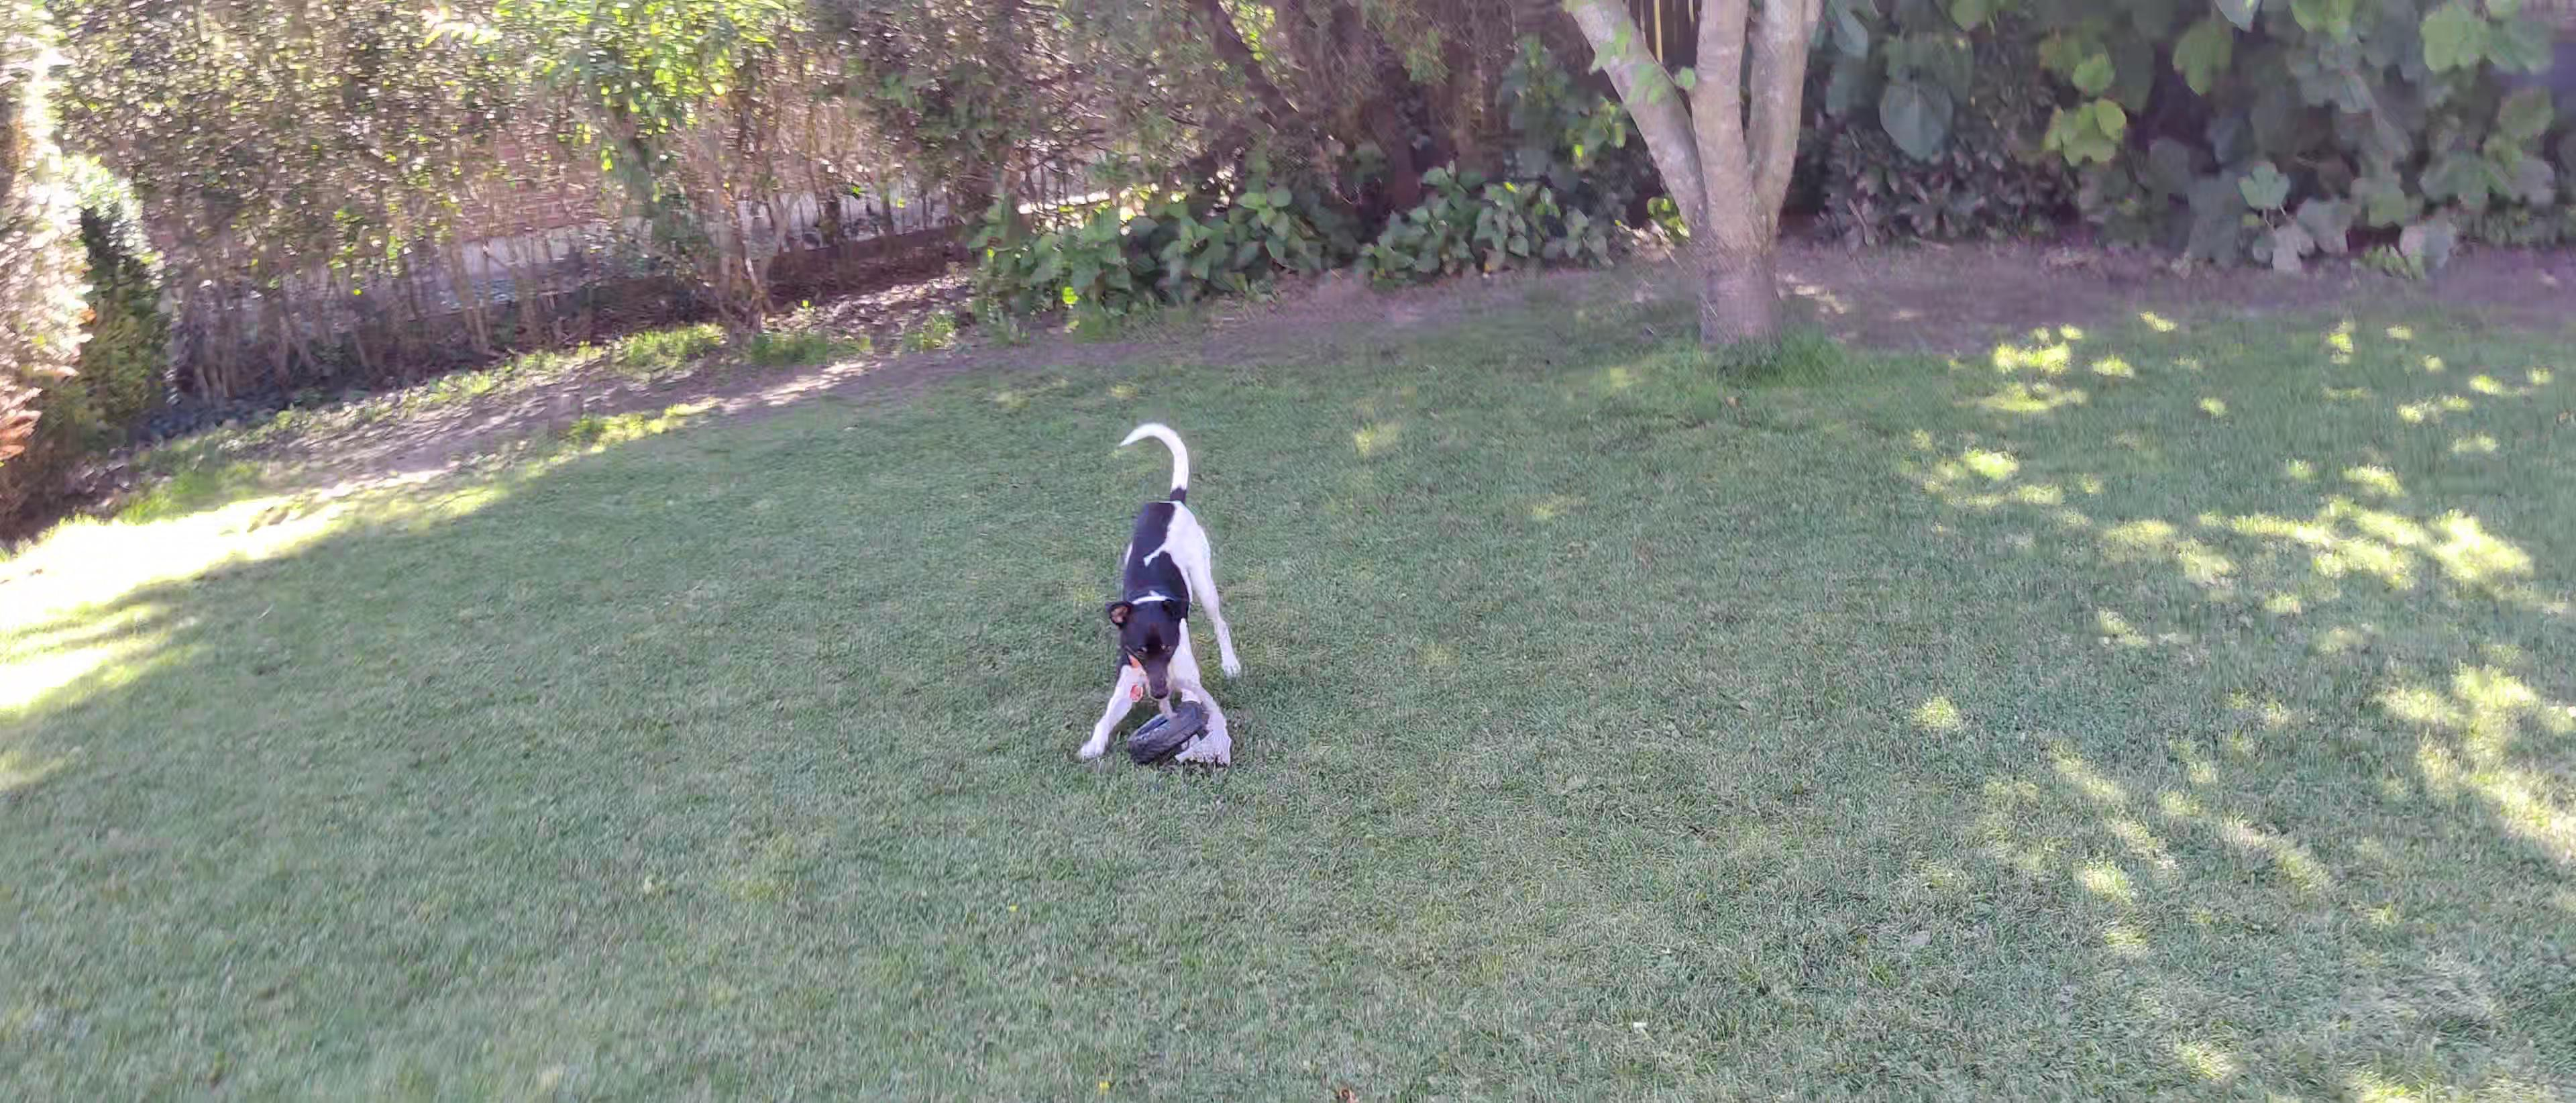Dog: (1055, 406, 1255, 782)
